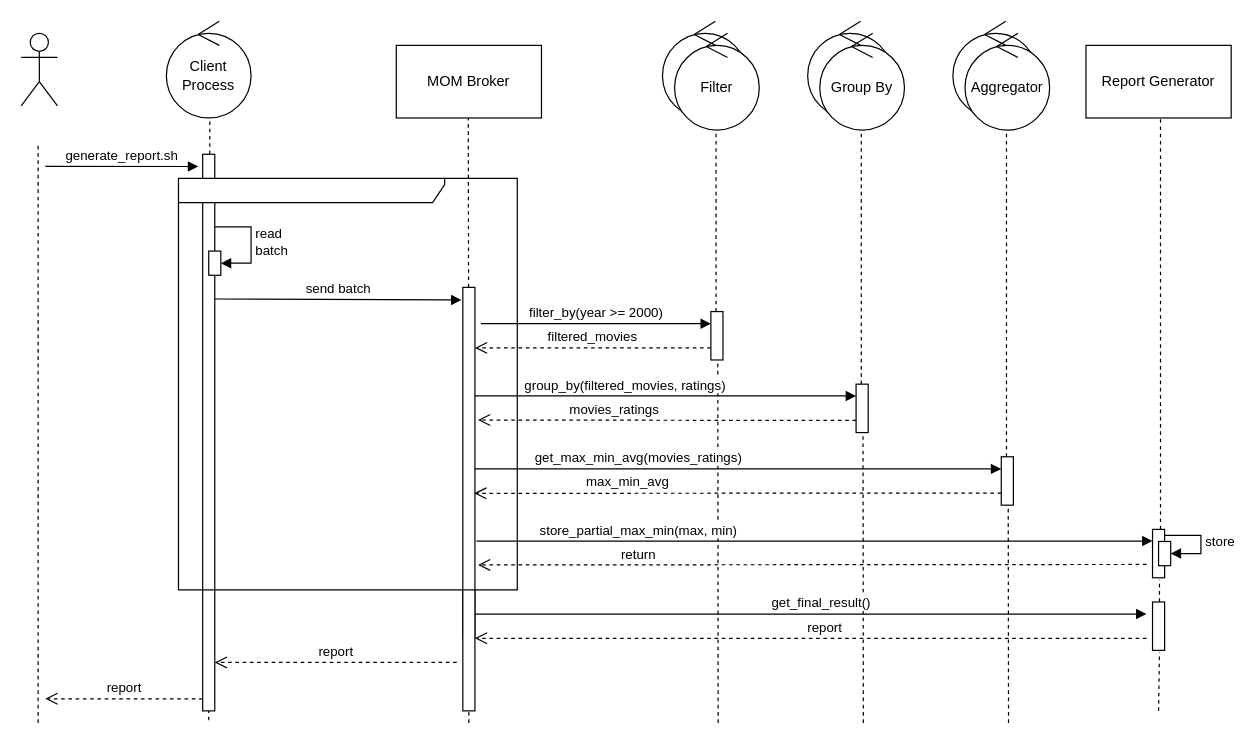
Image size: 1256x745. Some labels were removed from this diagram. The shapes that lost their labels are listed below. From the top down, each one's box as (x1, y1, x2, y2) in pixels, then its label:
(20, 32, 57, 106): User
(177, 177, 517, 590): loop (read_batch() != 0)
